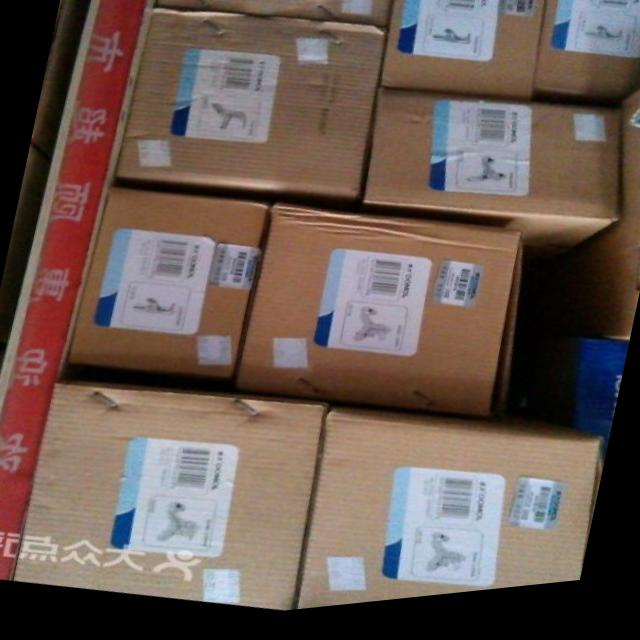box: (9, 384, 325, 616), (237, 209, 520, 431), (298, 415, 603, 616), (115, 9, 385, 220), (361, 98, 619, 263), (65, 190, 270, 383), (538, 107, 640, 356), (380, 0, 553, 108), (542, 0, 640, 110), (156, 0, 391, 33), (543, 352, 622, 448)
